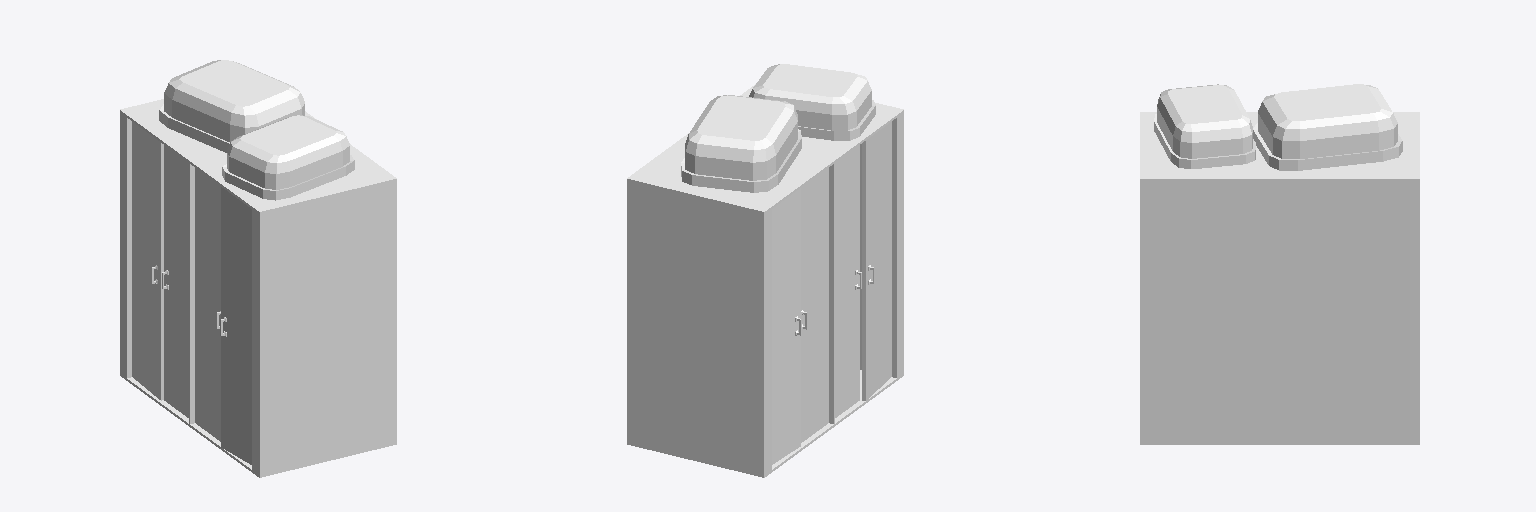
The model's file is cupboard.obj.
3 renders of one model, left to right at view 1: azimuth 30°, elevation 25°; view 2: azimuth 150°, elevation 25°; view 3: azimuth 270°, elevation 25°, orthographic.
Parts seen in each view (by area): view 1: cupboard; view 2: cupboard; view 3: cupboard.
Part boxes in pixels (x1,y1,x2,y2): cupboard: (120,60,396,477); cupboard: (627,64,903,477); cupboard: (1140,84,1419,444).
Size of the model in its own units: 129 by 267 by 220.